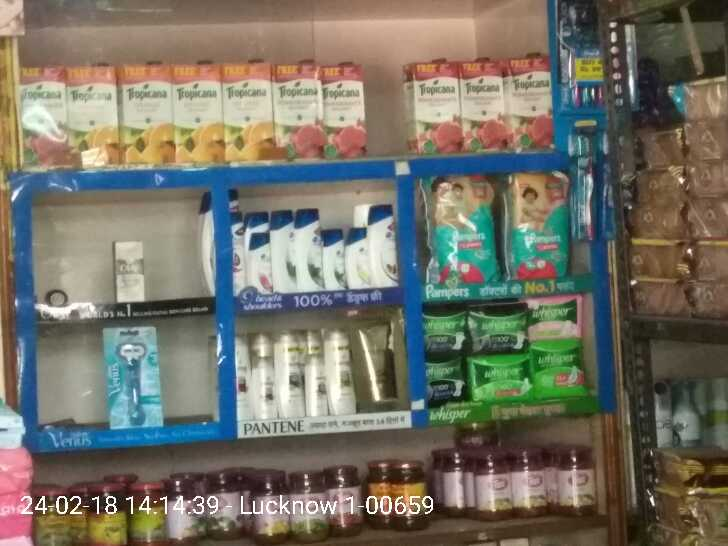venus: (111, 327, 159, 428)
